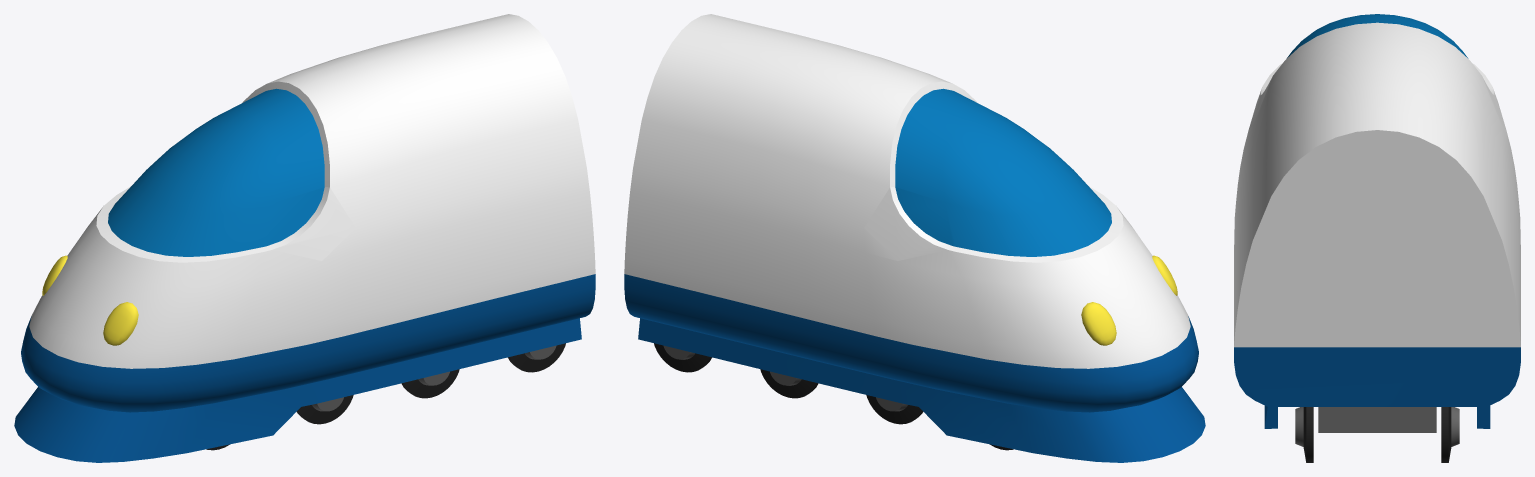
The model's file is high_speed_train.glb.
The picture shows the model from 3 angles, left to right: view 1: azimuth 30°, elevation 25°; view 2: azimuth 150°, elevation 25°; view 3: azimuth 270°, elevation 25°; orthographic projection. The views are drawn at different scales.
Visible parts, largest first — view 1: Cube.566; view 2: Cube.566; view 3: Cube.566.
Boxes of the visible parts, x1,y1,x2,y2 form: Cube.566: (14,14,595,462); Cube.566: (624,14,1205,462); Cube.566: (1234,14,1520,462).
Size of the model in its own units: 2.27 by 1.37 by 1.04.
Materials: 1 (1 with a texture image).
